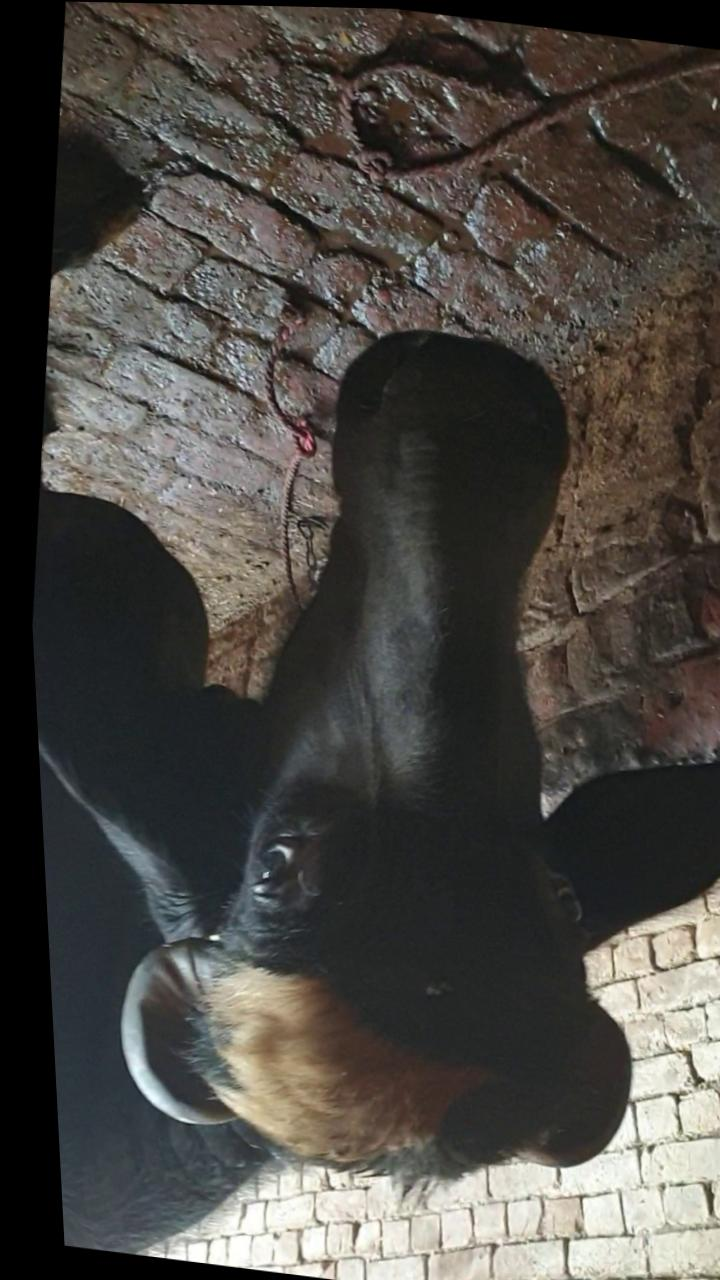cows: (123, 289, 662, 1193)
